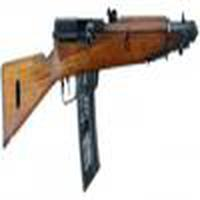gun: (2, 20, 199, 143)
